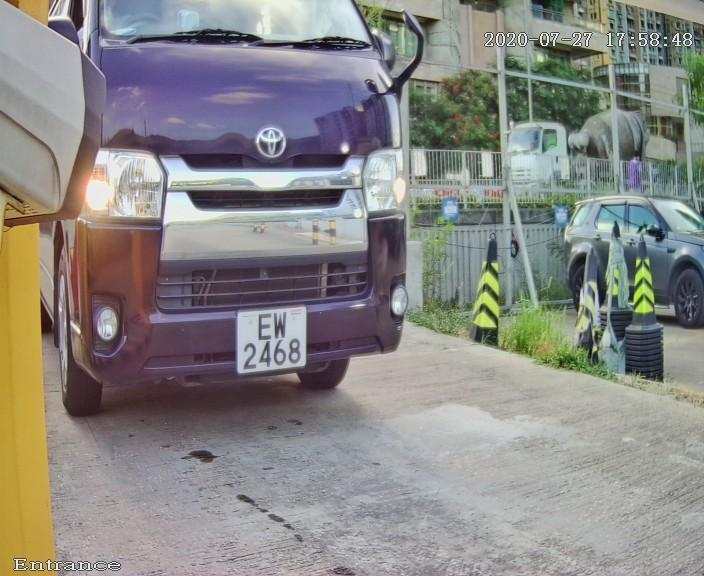privatecar: (41, 6, 434, 427)
